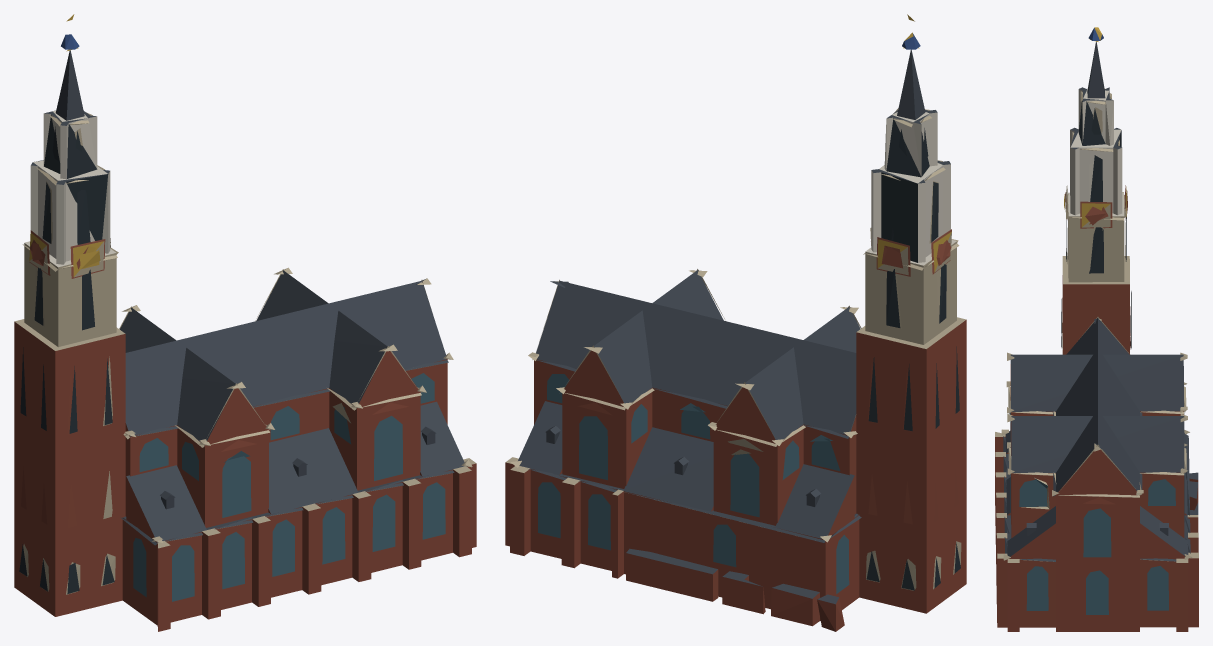
The model's file is westerkerk.lod2.glb.
The picture shows the model from 3 angles, left to right: view 1: azimuth 30°, elevation 25°; view 2: azimuth 150°, elevation 25°; view 3: azimuth 270°, elevation 25°; orthographic projection. The views are drawn at different scales.
Parts seen in each view (by area): view 1: lod2; view 2: lod2; view 3: lod2.
Part boxes in pixels (left/top/right/bottom): lod2: left=14, top=14, right=476, bottom=631; lod2: left=505, top=14, right=966, bottom=631; lod2: left=995, top=27, right=1198, bottom=631.
Bounding box in the file's own units: 62.56 × 87 × 33.65.
